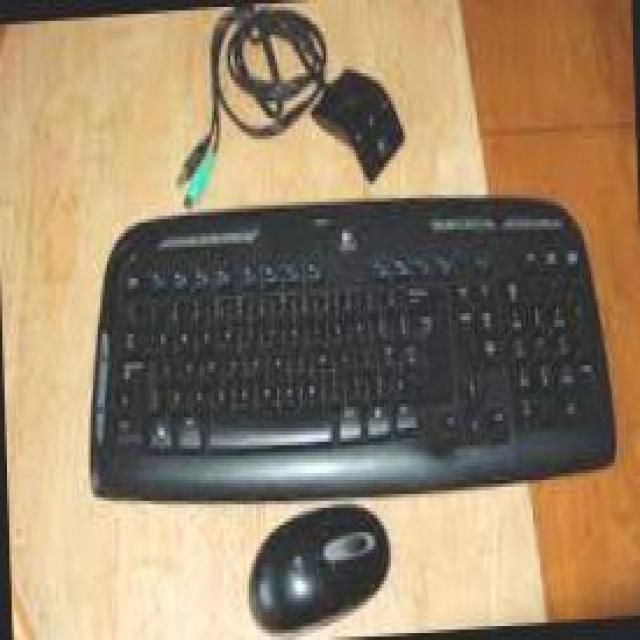keyboard: (91, 191, 614, 484)
mouse: (246, 500, 395, 631)
